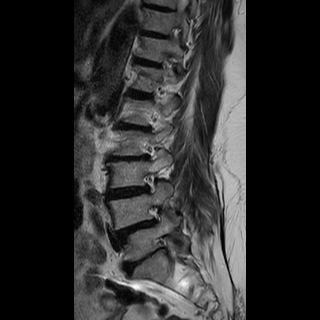LFS0: (144, 199, 169, 230), (139, 167, 162, 198)
